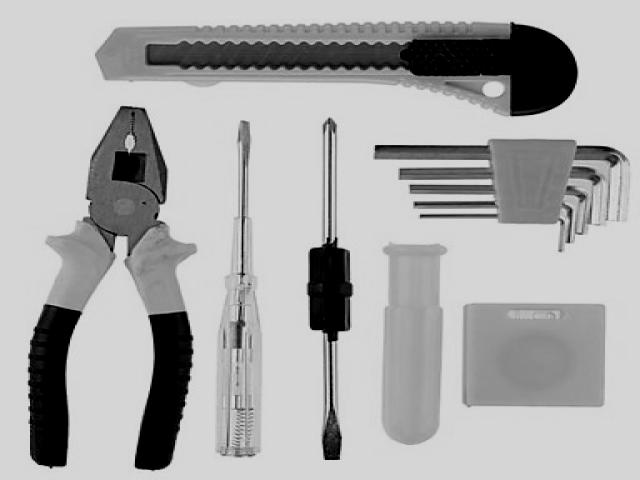Pliers: (29, 107, 196, 470)
Screwdriver: (216, 121, 261, 458), (308, 119, 352, 460), (382, 245, 446, 444)
Utility knife: (96, 23, 574, 116)
